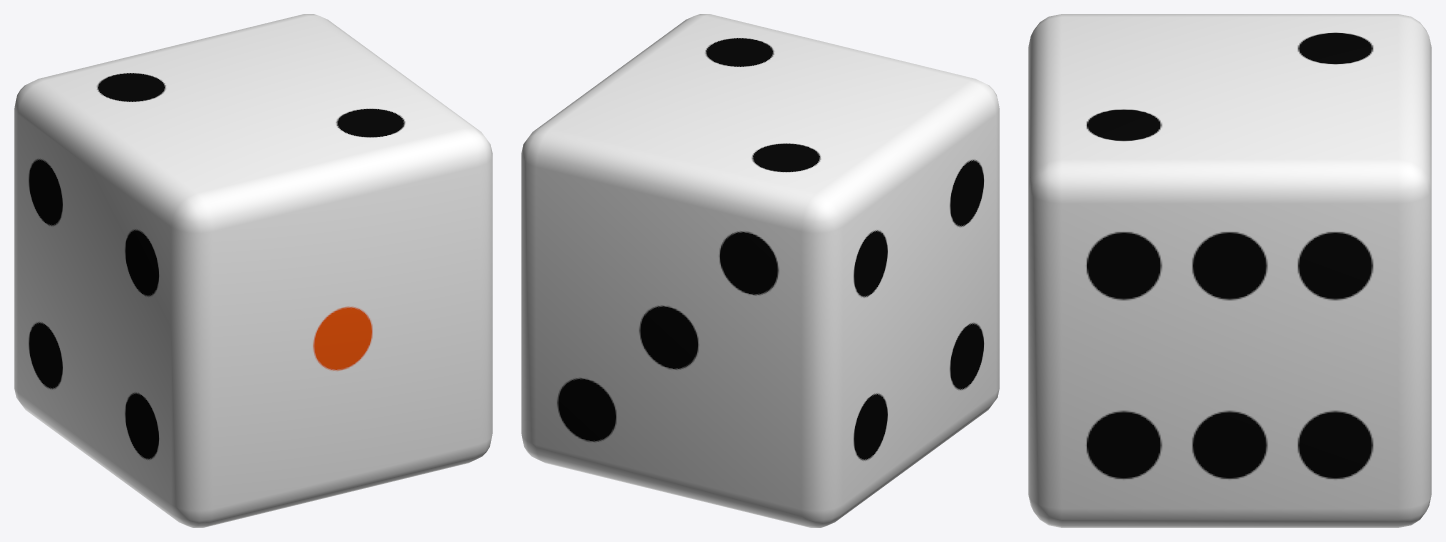
File: zar.fbx
3 renders of one model, left to right at view 1: azimuth 30°, elevation 25°; view 2: azimuth 150°, elevation 25°; view 3: azimuth 270°, elevation 25°, orthographic. The views are drawn at different scales.
Visible parts, largest first — view 1: zar; view 2: zar; view 3: zar.
Boxes of the visible parts, box(x1,y1,x2,y2) form: zar: box(14, 14, 492, 527); zar: box(521, 14, 999, 527); zar: box(1028, 14, 1431, 527).
Size of the model in its own units: 200 by 200 by 200.
